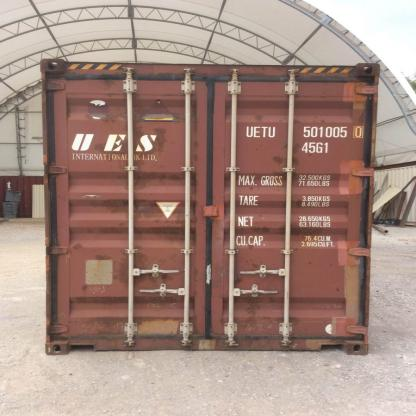Damage: (238, 293, 297, 339), (101, 186, 156, 224), (78, 309, 156, 335), (81, 95, 129, 134), (270, 134, 302, 189), (116, 250, 159, 290), (140, 120, 174, 156)
